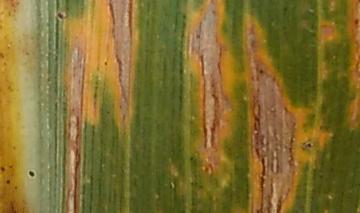tarspot: (195, 21, 203, 40), (27, 169, 36, 179), (55, 11, 65, 20), (9, 201, 16, 213), (210, 8, 218, 18), (303, 141, 312, 149), (102, 58, 109, 67), (6, 163, 15, 170), (354, 16, 360, 26), (281, 6, 289, 12), (4, 179, 12, 185), (258, 68, 264, 75), (1, 50, 5, 60), (1, 164, 5, 172), (189, 156, 194, 162), (11, 145, 16, 151), (254, 208, 260, 213), (14, 185, 19, 190), (209, 1, 215, 5)
